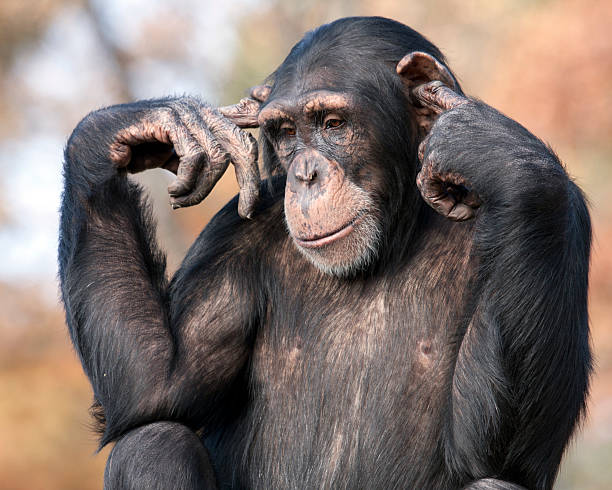chimpanzee: (243, 14, 468, 296)
